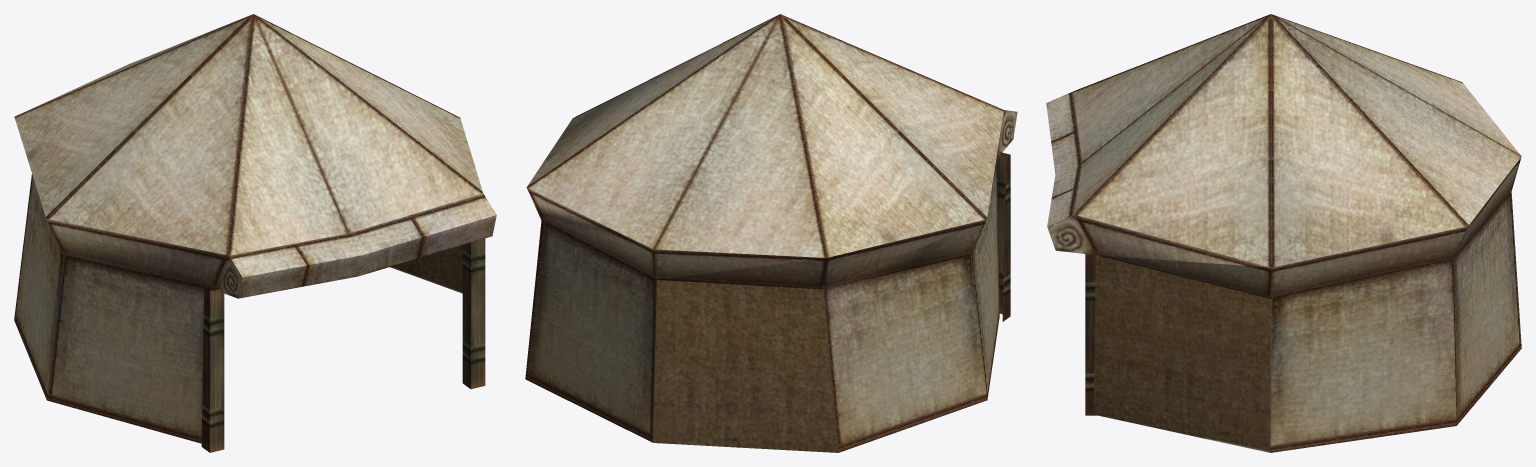
The model's file is b_general_obj_03.fbx.
3 renders of one model, left to right at view 1: azimuth 30°, elevation 25°; view 2: azimuth 150°, elevation 25°; view 3: azimuth 270°, elevation 25°, orthographic.
Visible parts, largest first — view 1: Mesh02; view 2: Mesh02; view 3: Mesh02.
Part boxes in pixels (x1,y1,x2,y2): Mesh02: [14, 14, 496, 452]; Mesh02: [525, 14, 1017, 452]; Mesh02: [1046, 14, 1521, 452].
Bounding box in the file's own units: 6.72 × 5.1 × 6.56.
